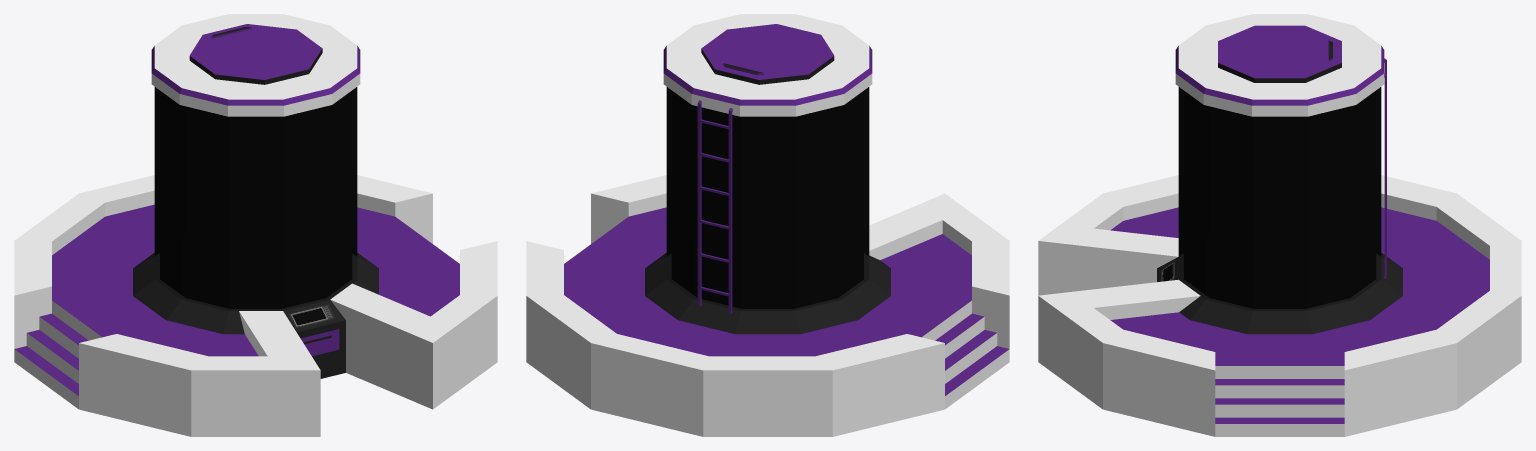
Rendered from Replicator.fbx.
3 renders of one model, left to right at view 1: azimuth 30°, elevation 25°; view 2: azimuth 150°, elevation 25°; view 3: azimuth 270°, elevation 25°, orthographic.
Visible parts, largest first — view 1: Laboratory_1x1x1.001; view 2: Laboratory_1x1x1.001; view 3: Laboratory_1x1x1.001.
Part boxes in pixels (bbox=[...]): Laboratory_1x1x1.001: bbox=[14, 14, 497, 436]; Laboratory_1x1x1.001: bbox=[526, 14, 1009, 436]; Laboratory_1x1x1.001: bbox=[1038, 14, 1521, 436].
Size of the model in its own units: 12.76 by 12.76 by 8.29.
